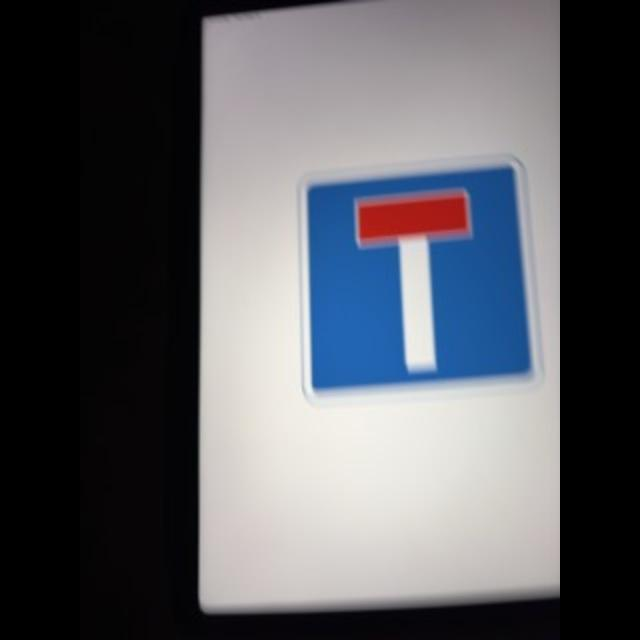DEAD END: (302, 164, 536, 388)
